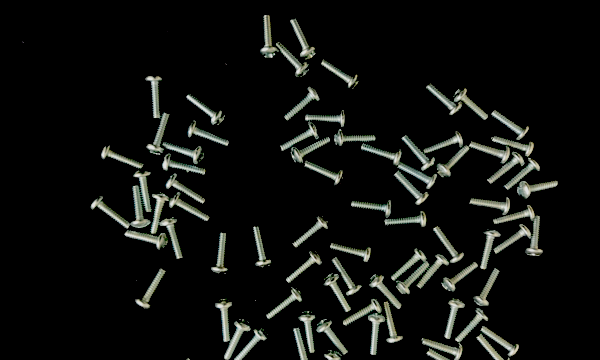shortscrew: (135, 267, 168, 311), (90, 195, 132, 229), (502, 157, 542, 191), (186, 93, 226, 127), (264, 287, 305, 320), (425, 82, 463, 117), (285, 250, 324, 284), (416, 251, 450, 290), (283, 87, 322, 121), (480, 325, 521, 357), (394, 170, 430, 206), (368, 273, 403, 310), (486, 151, 525, 184), (321, 60, 361, 92), (332, 255, 363, 296), (164, 174, 206, 204), (323, 272, 353, 314), (275, 42, 310, 78), (391, 247, 428, 281), (293, 215, 331, 248), (316, 318, 349, 356), (491, 109, 531, 140), (290, 17, 318, 61), (456, 307, 491, 342), (401, 135, 436, 170), (396, 261, 430, 297), (454, 87, 490, 121), (280, 122, 320, 152), (100, 143, 146, 169), (235, 326, 270, 360), (224, 318, 252, 360), (187, 120, 230, 147), (169, 193, 209, 222), (291, 136, 331, 165), (436, 145, 470, 179), (494, 224, 532, 254), (343, 298, 383, 326), (304, 160, 345, 187), (473, 268, 501, 307), (442, 263, 478, 293), (147, 112, 172, 155), (163, 140, 206, 165), (360, 142, 402, 167), (399, 163, 436, 191), (160, 217, 184, 260), (162, 153, 205, 176), (330, 241, 373, 264), (444, 298, 467, 340), (470, 142, 510, 166), (124, 230, 169, 251), (490, 137, 535, 158), (479, 229, 502, 270), (423, 131, 464, 154), (476, 334, 511, 360), (493, 205, 536, 226), (145, 74, 165, 119), (422, 339, 464, 360), (517, 179, 559, 200), (214, 298, 234, 342), (383, 302, 403, 345), (135, 169, 154, 214), (131, 186, 151, 228), (252, 226, 272, 268), (151, 191, 170, 235), (305, 109, 349, 128), (260, 14, 279, 58), (211, 233, 230, 274), (525, 216, 544, 257), (335, 129, 376, 148), (299, 310, 317, 353), (368, 313, 386, 356), (385, 210, 428, 228), (351, 199, 391, 218), (293, 327, 316, 360), (469, 197, 511, 215), (427, 350, 467, 360), (323, 349, 343, 360), (157, 358, 193, 360)
